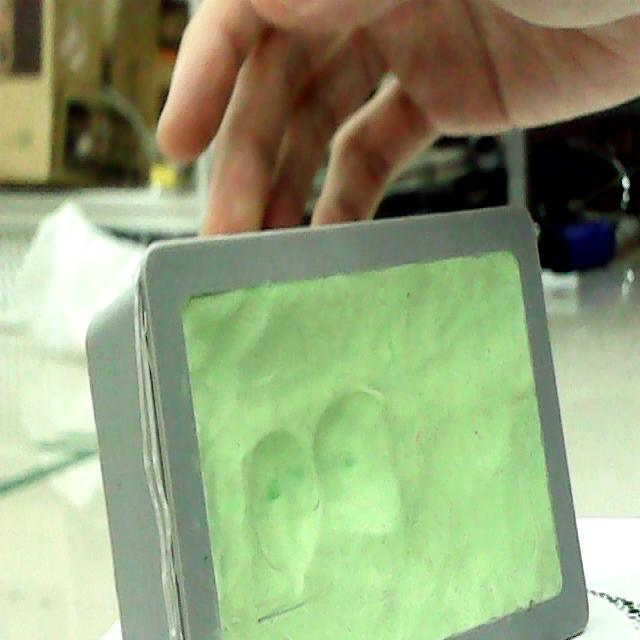block: (85, 203, 593, 640)
